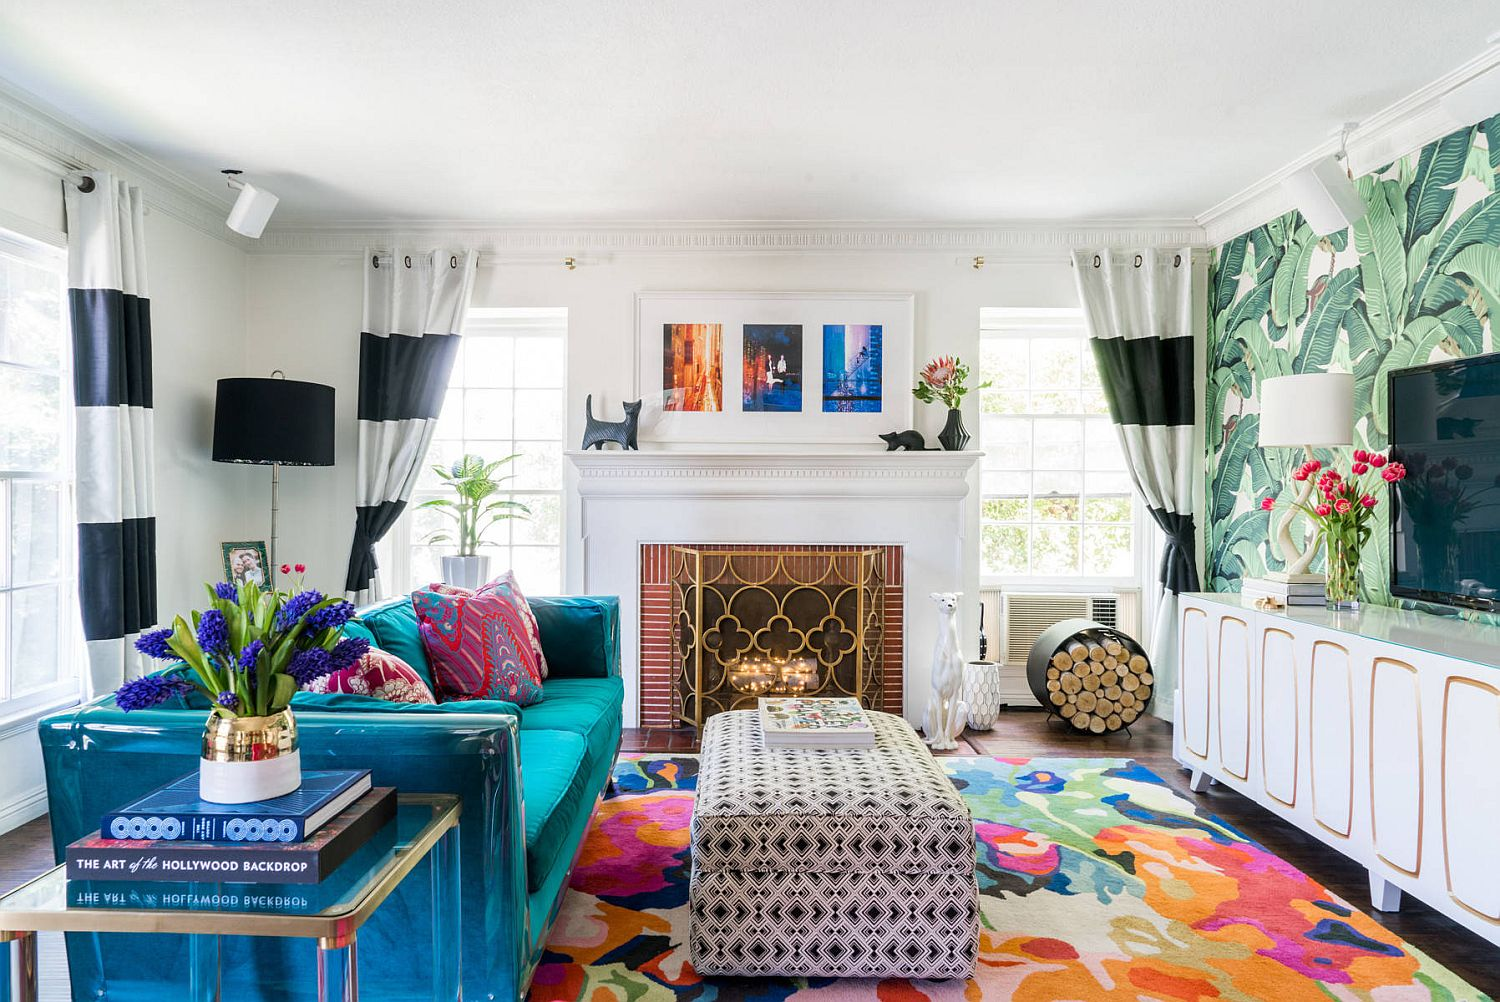hijau: (376, 588, 617, 998)
hitam: (1382, 357, 1500, 604), (212, 375, 335, 469), (578, 395, 639, 451), (936, 408, 976, 451), (879, 429, 928, 451)
putih: (1254, 377, 1364, 451), (960, 658, 1003, 731)
